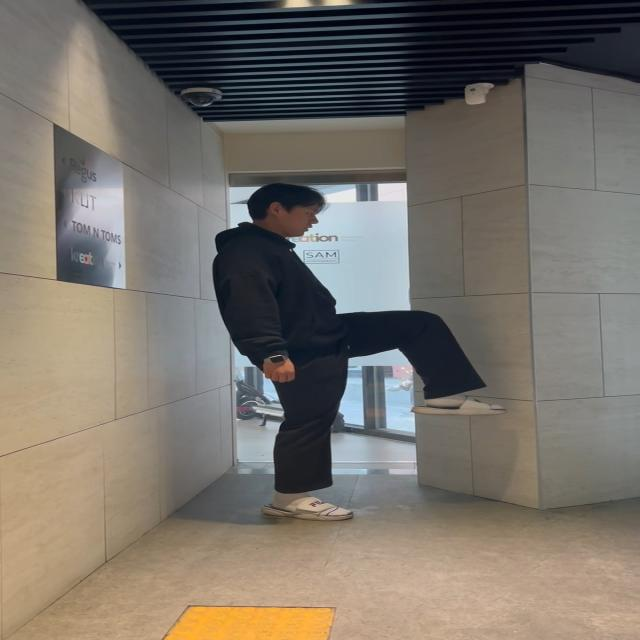knee: (329, 293, 531, 434)
